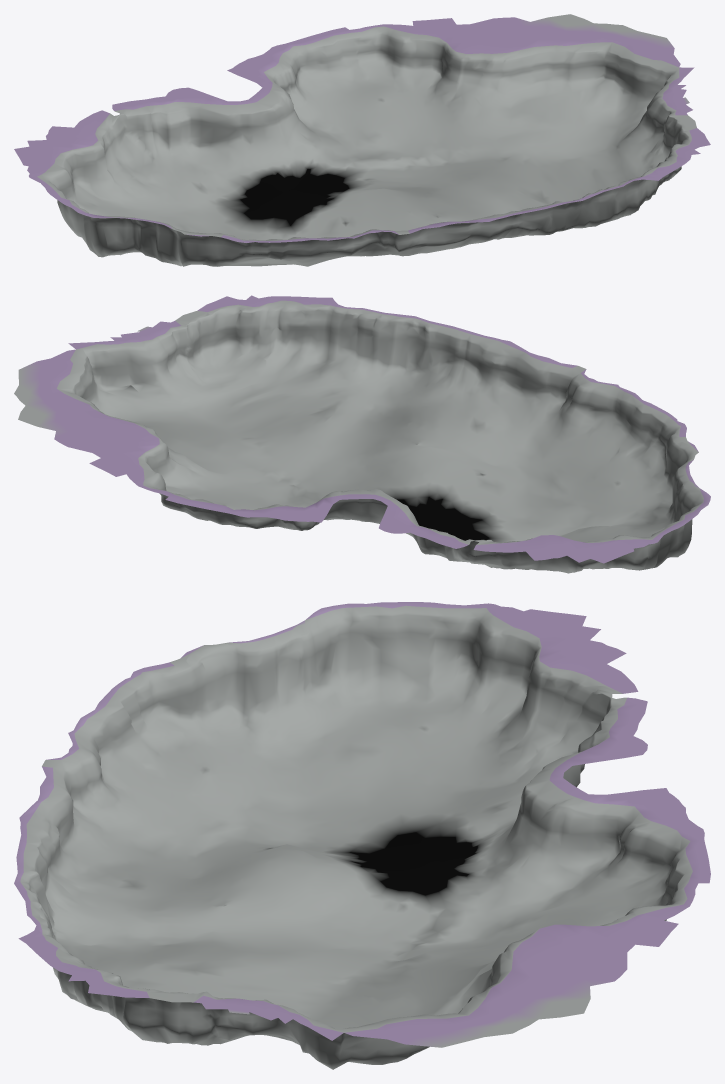
3 renders of one model, top to bottom at view 1: azimuth 30°, elevation 25°; view 2: azimuth 150°, elevation 25°; view 3: azimuth 270°, elevation 25°, orthographic. The views are drawn at different scales.
Visible parts, largest first — view 1: G:\FFXIV-MapTools\exports\y6f3\bg\ex5\02_ykt_y6\fld\y6f3\bgp; view 2: G:\FFXIV-MapTools\exports\y6f3\bg\ex5\02_ykt_y6\fld\y6f3\bgp; view 3: G:\FFXIV-MapTools\exports\y6f3\bg\ex5\02_ykt_y6\fld\y6f3\bgp.
Part boxes in pixels (x1,y1,x2,y2): G:\FFXIV-MapTools\exports\y6f3\bg\ex5\02_ykt_y6\fld\y6f3\bgp: (14, 14, 710, 266); G:\FFXIV-MapTools\exports\y6f3\bg\ex5\02_ykt_y6\fld\y6f3\bgp: (14, 295, 710, 573); G:\FFXIV-MapTools\exports\y6f3\bg\ex5\02_ykt_y6\fld\y6f3\bgp: (14, 602, 710, 1069).
Bounding box in the file's own units: 816 × 89.06 × 539.
